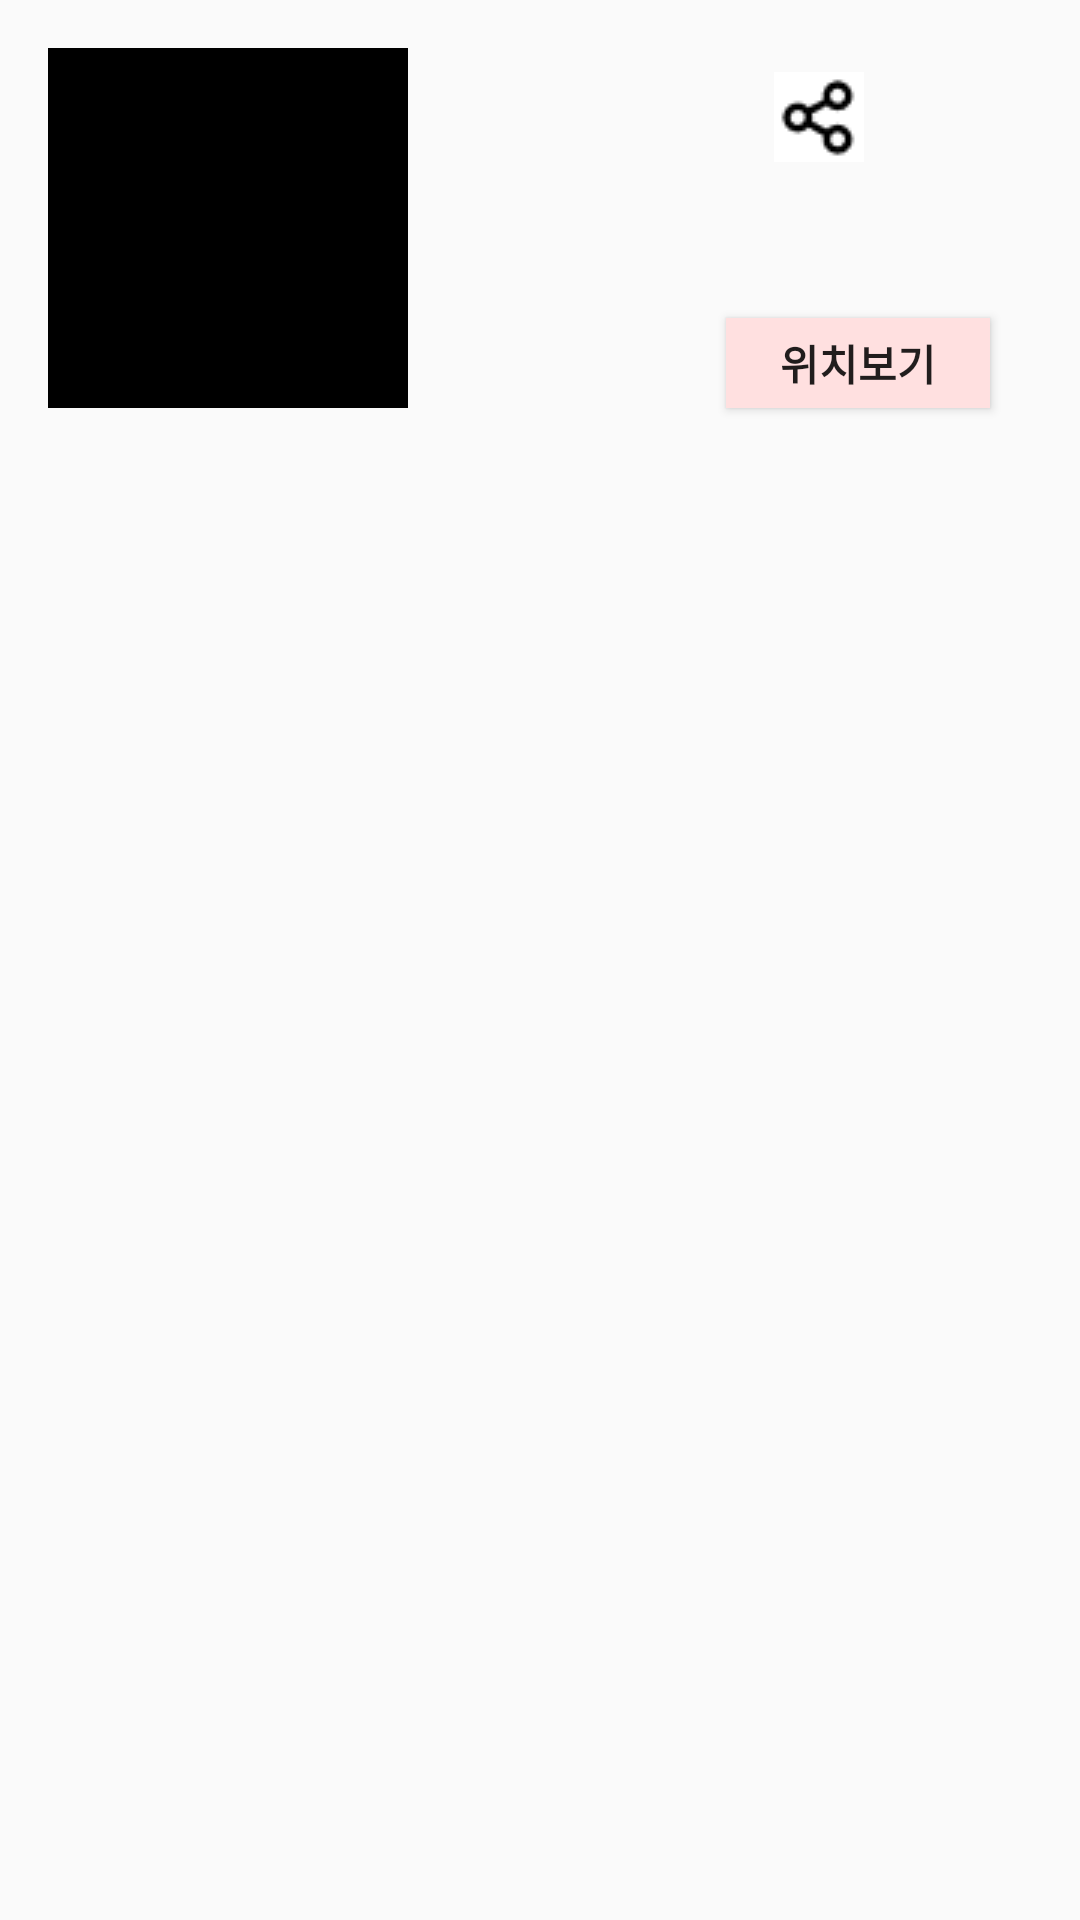

Icon click points for this 1080x1920 phone screenshot, format (x=x, y=y):
sharing: (x=818, y=117)
